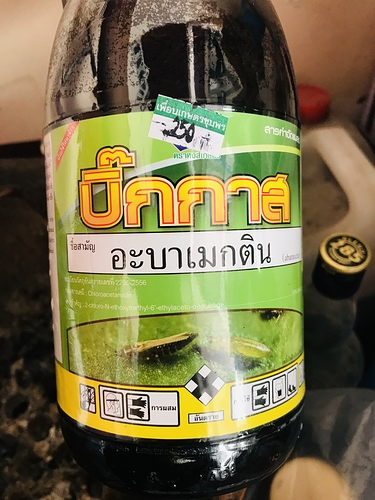Insecticide: (30, 1, 312, 500)
